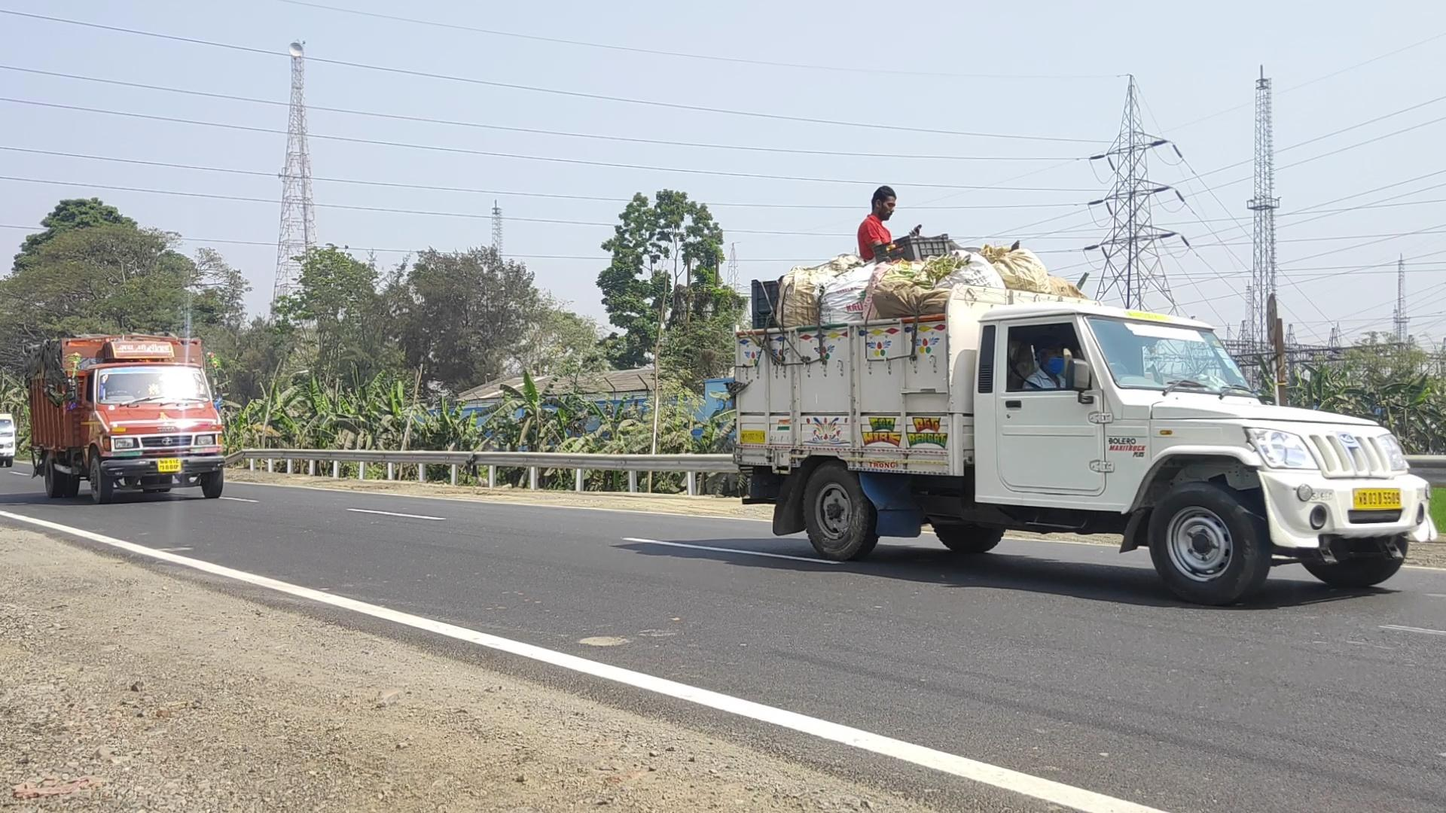truck: (27, 333, 227, 502)
van: (726, 184, 1436, 610)
